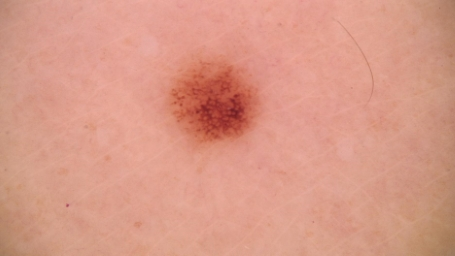nevus: (172, 63, 251, 141)
